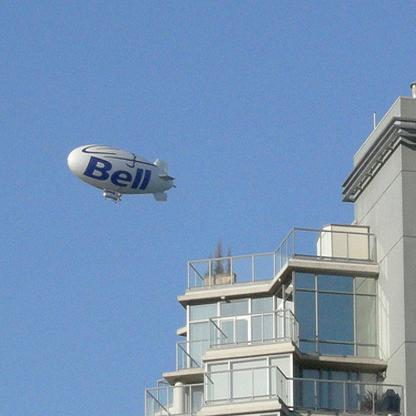Airship: (63, 144, 181, 208)
